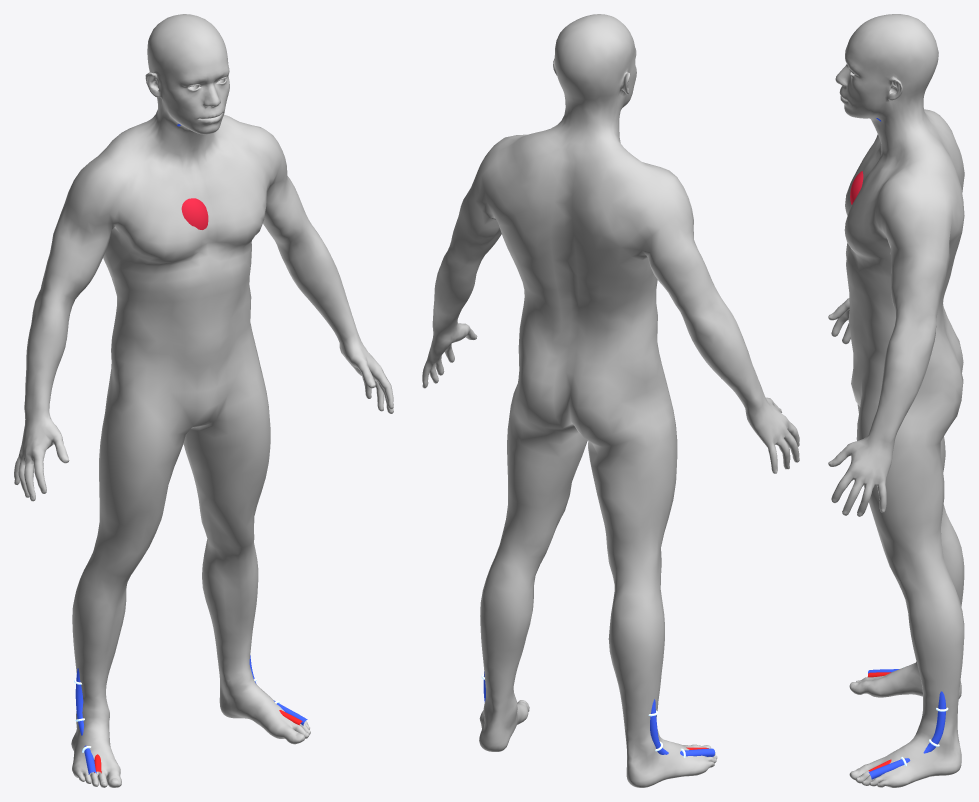
The model's file is corpo-circulacao.glb.
3 renders of one model, left to right at view 1: azimuth 30°, elevation 25°; view 2: azimuth 150°, elevation 25°; view 3: azimuth 270°, elevation 25°, orthographic.
Parts seen in each view (by area): view 1: corpo_translucido, coracao; view 2: corpo_translucido; view 3: corpo_translucido, femoral_safena_esq.
Boxes of the visible parts, x1=… form: corpo_translucido: x1=14, y1=14, x2=393, y2=787; coracao: x1=181, y1=198, x2=208, y2=229; corpo_translucido: x1=422, y1=14, x2=799, y2=787; corpo_translucido: x1=828, y1=14, x2=964, y2=787; femoral_safena_esq: x1=868, y1=691, x2=946, y2=779.
Bounding box in the file's own units: 0.9121 × 1.75 × 0.3008.
